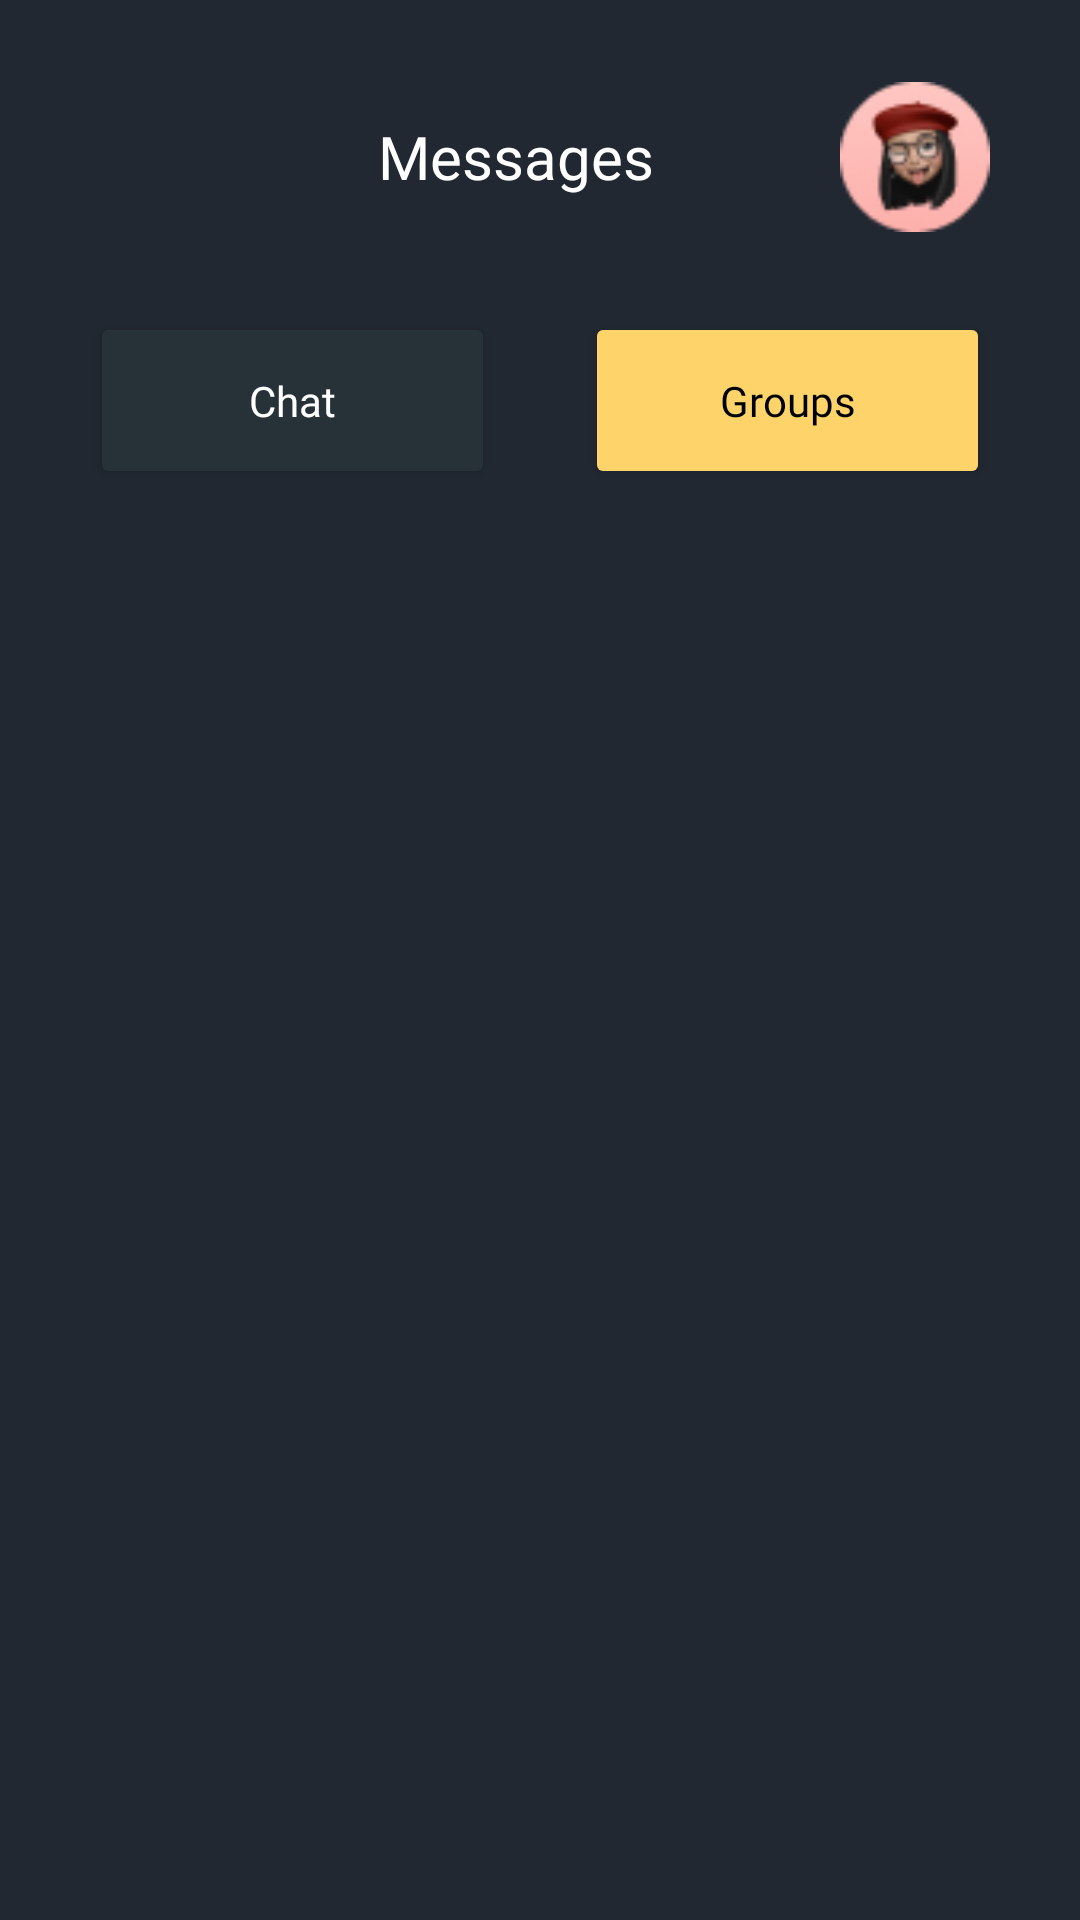

Point at icon controls on the screen. Image size 1080px x 1920px, points as (x=x, y=y).
person: (x=915, y=157)
